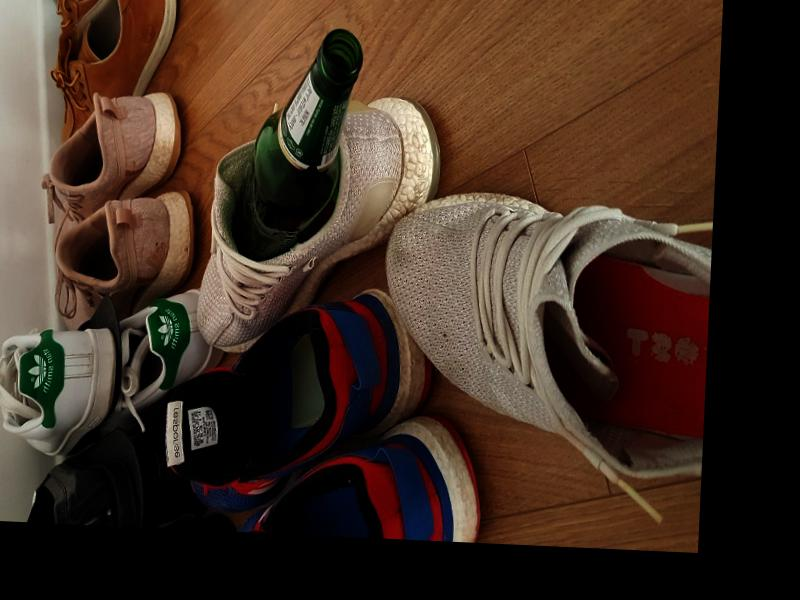Beer: (226, 24, 363, 266)
